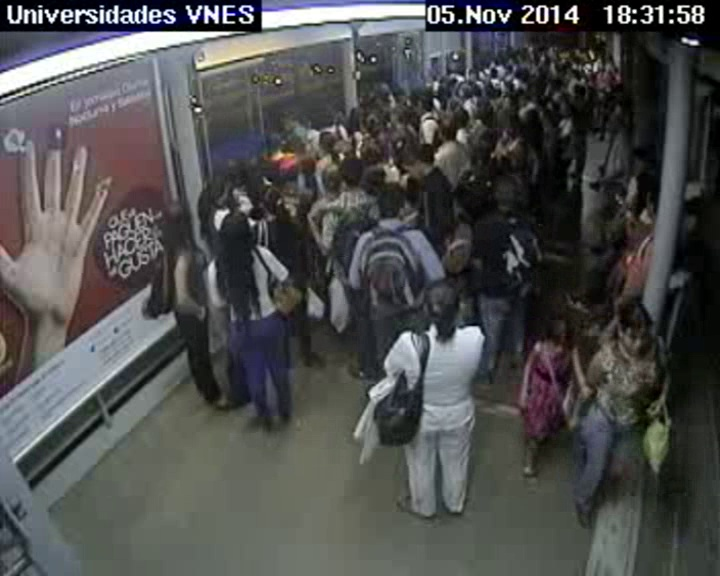person: (615, 301, 658, 354), (423, 278, 471, 323), (154, 203, 191, 241), (545, 296, 579, 337), (219, 211, 257, 247), (461, 180, 497, 214), (262, 188, 291, 214), (436, 196, 463, 223), (378, 188, 407, 213), (341, 158, 366, 186), (206, 174, 230, 203), (643, 189, 668, 215), (631, 173, 656, 198), (332, 138, 356, 163), (415, 143, 438, 168), (631, 148, 653, 173), (400, 173, 421, 196), (367, 166, 391, 186), (359, 112, 380, 134), (362, 141, 383, 163), (318, 131, 339, 153), (235, 161, 256, 182), (326, 172, 345, 194), (438, 123, 457, 142), (280, 112, 299, 131), (501, 110, 520, 128), (270, 175, 289, 193), (390, 105, 407, 125), (298, 159, 318, 175), (388, 164, 406, 181), (501, 127, 518, 144), (471, 148, 487, 166), (515, 143, 531, 160), (539, 109, 556, 125), (452, 112, 467, 128), (526, 110, 541, 125), (280, 139, 295, 153), (530, 95, 544, 109), (559, 103, 573, 116), (459, 83, 473, 96), (302, 116, 314, 129), (552, 91, 564, 102), (430, 81, 441, 93), (474, 110, 486, 121), (387, 89, 399, 100), (466, 80, 477, 91), (447, 100, 458, 111), (603, 52, 614, 62), (502, 94, 512, 105), (545, 46, 555, 57), (568, 53, 578, 63), (615, 82, 625, 92), (423, 102, 433, 112), (333, 113, 343, 123), (588, 50, 598, 60), (572, 69, 582, 78), (578, 86, 587, 96), (518, 96, 528, 105), (489, 68, 498, 77), (515, 55, 524, 64), (559, 51, 569, 59), (610, 77, 618, 86), (553, 81, 561, 90), (573, 85, 581, 94), (409, 91, 418, 99), (582, 52, 590, 61), (598, 59, 606, 67), (590, 73, 598, 81), (506, 66, 514, 74), (508, 83, 516, 91), (493, 90, 501, 98), (517, 87, 525, 95), (538, 54, 546, 62), (507, 56, 515, 64), (449, 80, 457, 88), (491, 59, 498, 67), (565, 68, 572, 75), (486, 85, 493, 92), (527, 47, 534, 54), (477, 66, 484, 72), (604, 82, 610, 88), (614, 68, 620, 73), (608, 71, 613, 77), (575, 48, 580, 53)
